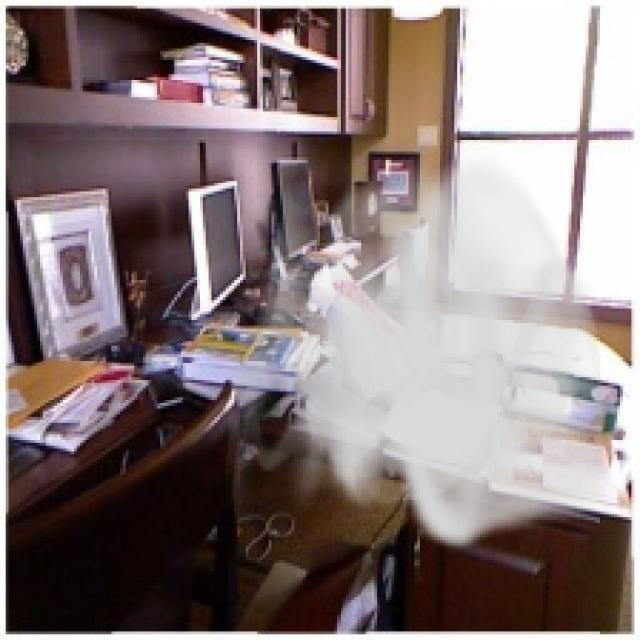Smoke: (222, 143, 618, 552)
